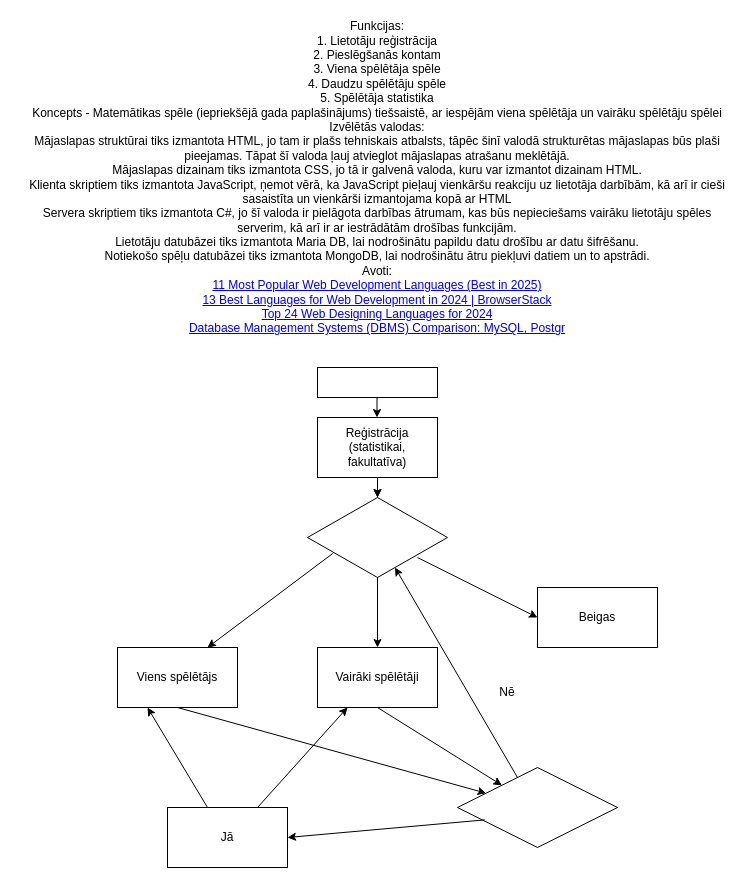
Image size: 754x885. Some labels were removed from this diagram. The shapes that lost their labels are listed below. From the top down, each one's box as (x1, y1, x2, y2) in pixels, then its label:
(316, 366, 438, 398): Sākums
(306, 496, 448, 578): Spēles veids
(456, 766, 618, 848): Turpināt?
